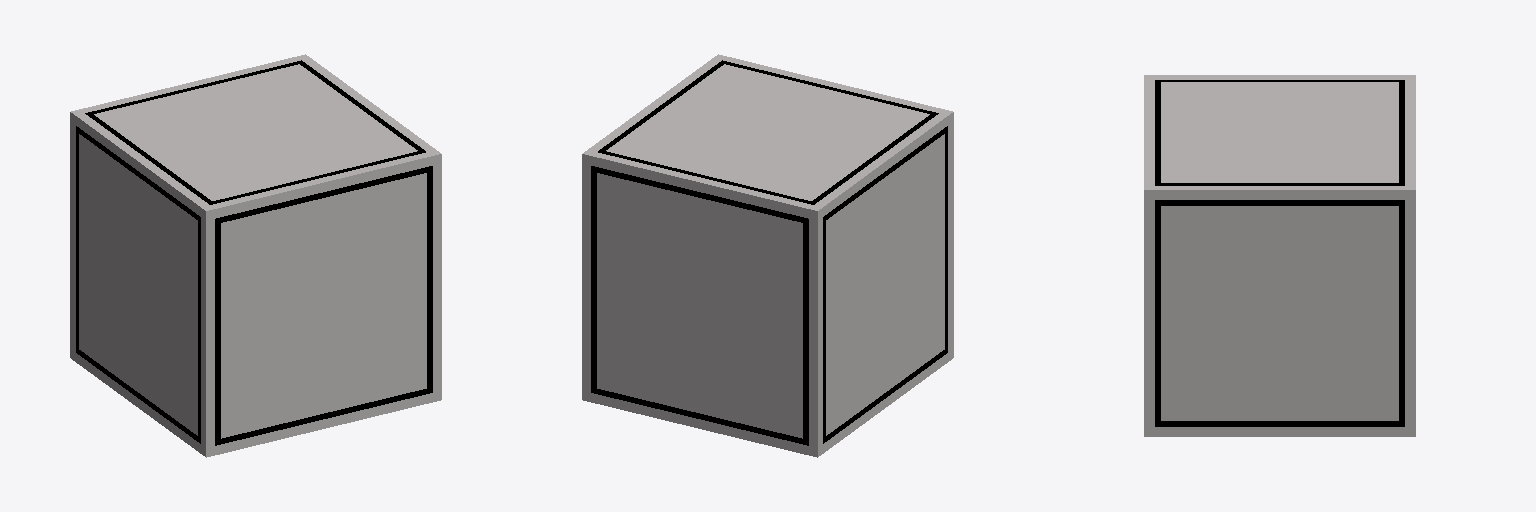
The picture shows the model from 3 angles: view 1: azimuth 30°, elevation 25°; view 2: azimuth 150°, elevation 25°; view 3: azimuth 270°, elevation 25°; orthographic projection.
Parts seen in each view (by area): view 1: Cube; view 2: Cube; view 3: Cube.
Boxes of the visible parts, x1=… form: Cube: x1=70, y1=54, x2=441, y2=457; Cube: x1=582, y1=54, x2=953, y2=457; Cube: x1=1144, y1=75, x2=1415, y2=436.
Size of the model in its own units: 1 by 1 by 1.
Materials: 1 (1 with a texture image).